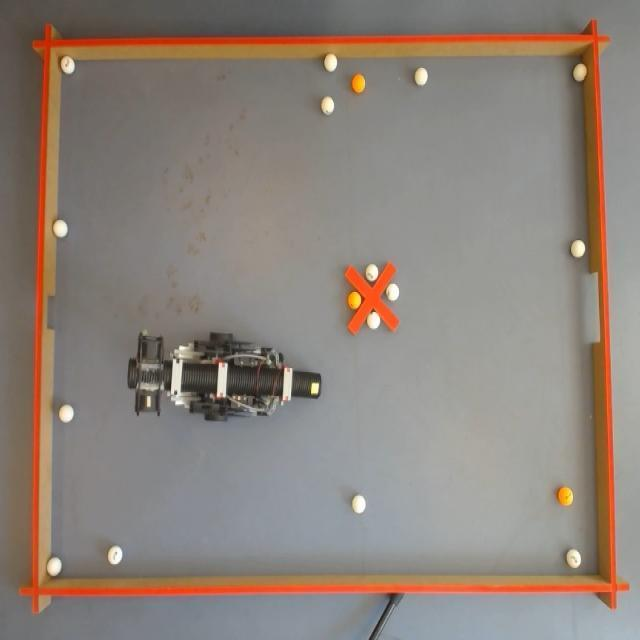orange: (558, 484, 573, 504), (352, 75, 366, 94), (348, 294, 361, 310)
robot: (134, 326, 312, 434)
white: (567, 548, 583, 570), (48, 555, 64, 577), (574, 61, 588, 83), (571, 238, 586, 258), (385, 284, 400, 304), (319, 95, 334, 115), (352, 494, 365, 516), (364, 262, 378, 282), (325, 52, 338, 73), (109, 545, 122, 565), (59, 405, 73, 423), (414, 66, 427, 85), (54, 220, 66, 240), (60, 56, 74, 72), (368, 309, 379, 329), (390, 283, 400, 300)
